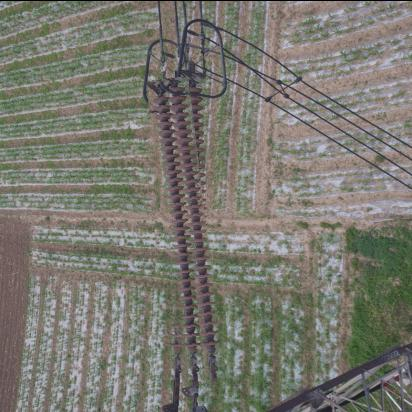insulator: (156, 78, 218, 386)
